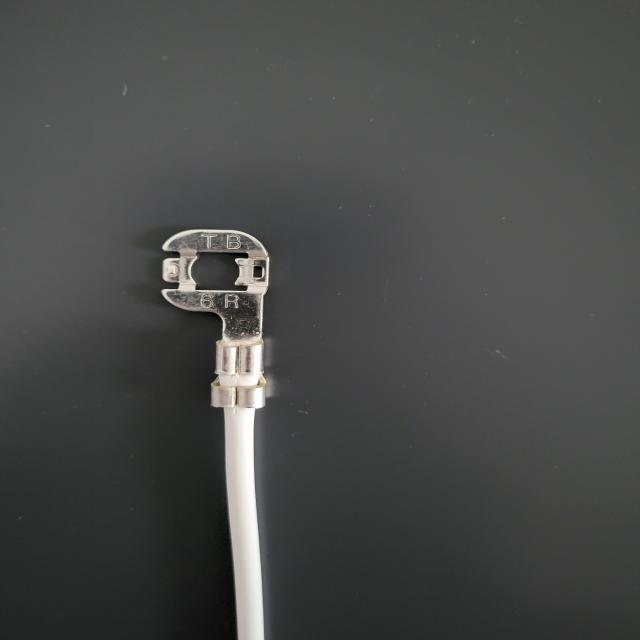defect: (162, 328, 349, 447)
